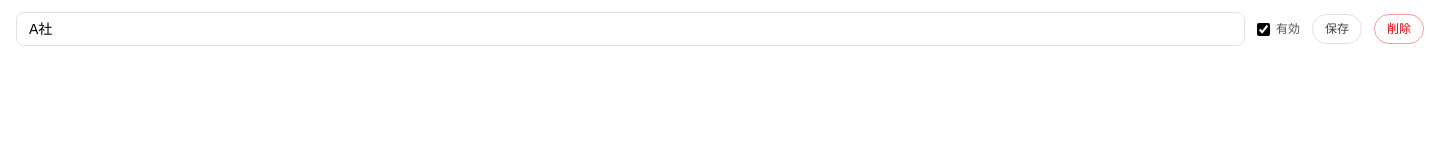
Test: SubAccountItem › 更新アクションがエラーを返すと画面に表示される
Click the button "保存".
click(1337, 29)  # box [1312,14,1362,44]
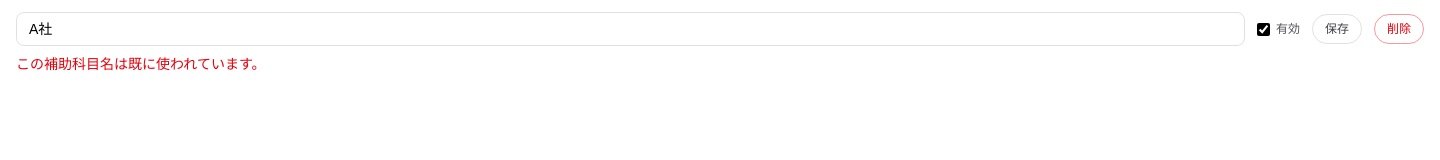
Check: the list item "この補助科目名は既に使われています。" is shown, box [16,56,266,72]
